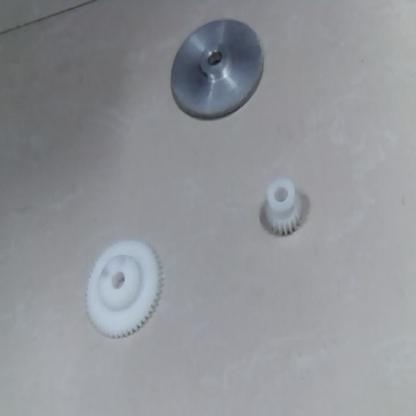FOD: (164, 11, 272, 127), (82, 239, 162, 342), (257, 181, 307, 238)
